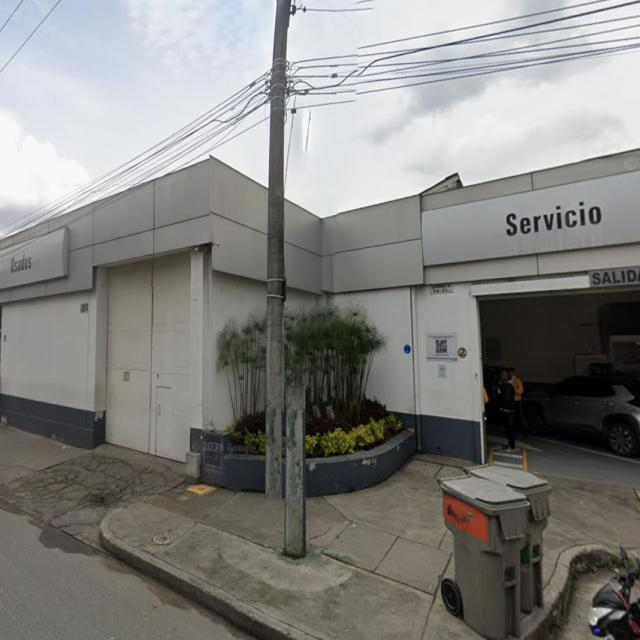fachada: (322, 176, 634, 482), (6, 164, 260, 526)
poste: (266, 0, 291, 499), (285, 380, 306, 557)
